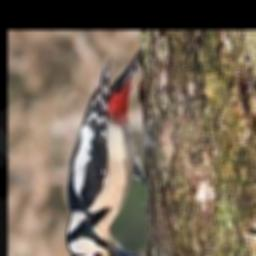Woodpecker: (66, 50, 163, 256)
